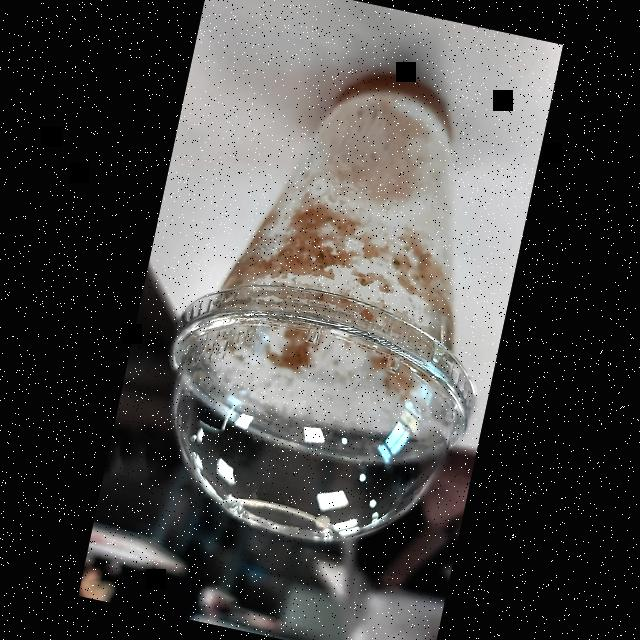plastic_cup: (135, 37, 541, 570)
plastic_cup_lid: (130, 258, 493, 572)
